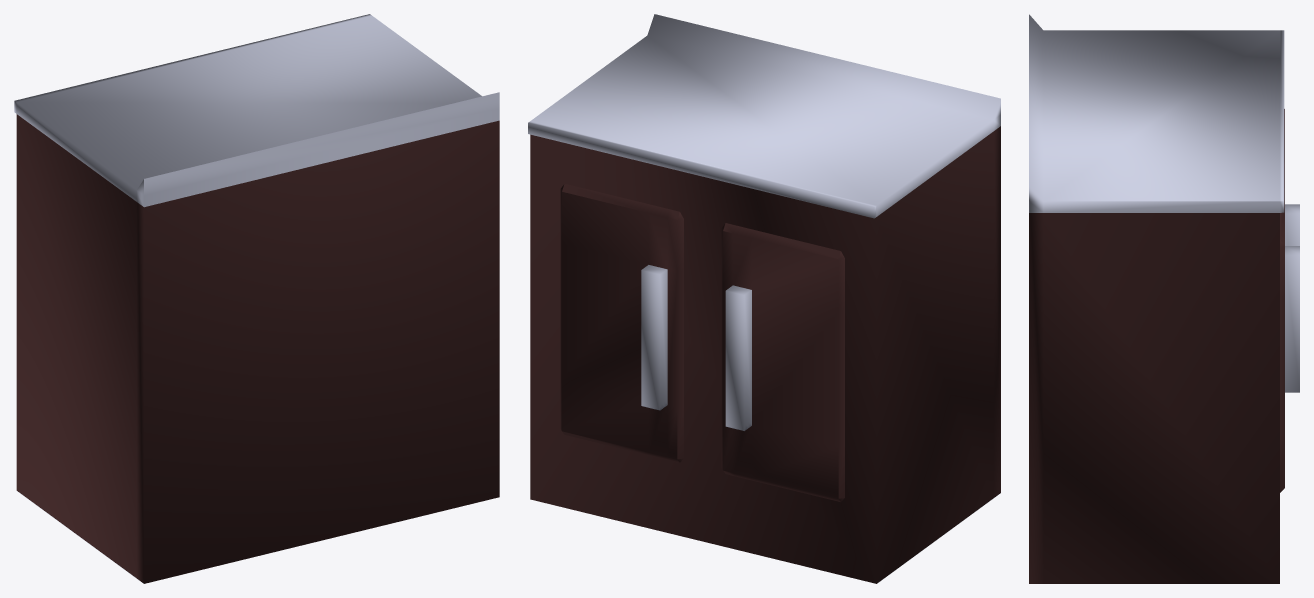
The model's file is VerticalCounterFinal.fbx.
3 renders of one model, left to right at view 1: azimuth 30°, elevation 25°; view 2: azimuth 150°, elevation 25°; view 3: azimuth 270°, elevation 25°, orthographic. The views are drawn at different scales.
Parts seen in each view (by area): view 1: Counter.002; view 2: Counter.002, CabinetDoor2; view 3: Counter.002, CabinetDoor2.
Part boxes in pixels (x1,y1,x2,y2): Counter.002: (14,14,499,583); Counter.002: (528,14,1000,583); CabinetDoor2: (560,183,844,501); Counter.002: (1029,14,1284,583); CabinetDoor2: (1280,109,1299,492).
Bounding box in the file's own units: 305 × 333 × 205.
